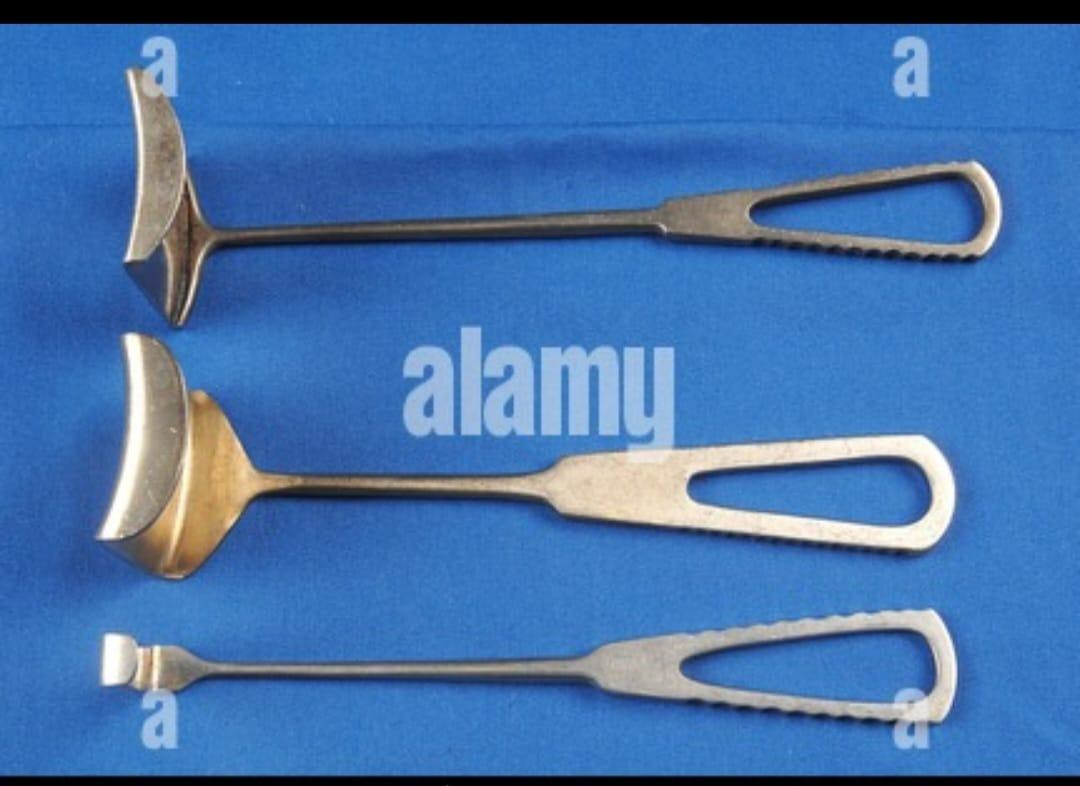Morris Retractor: (101, 48, 1015, 308), (86, 316, 953, 571)
